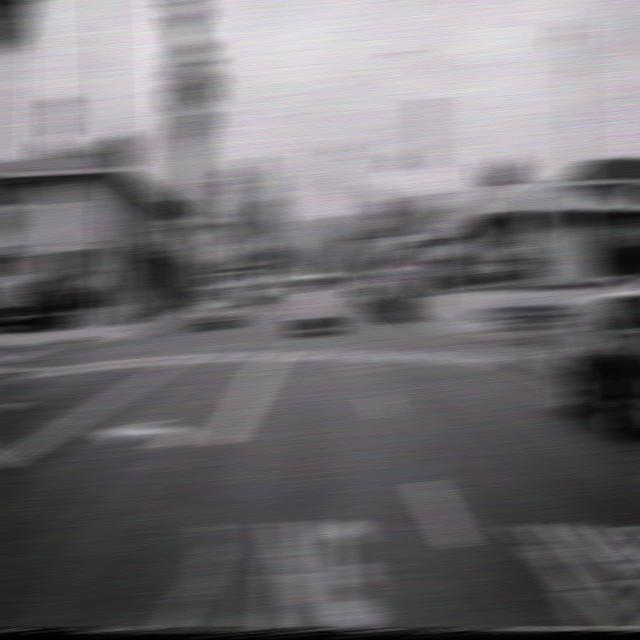pedestrianCrossing: (514, 182, 552, 231)
